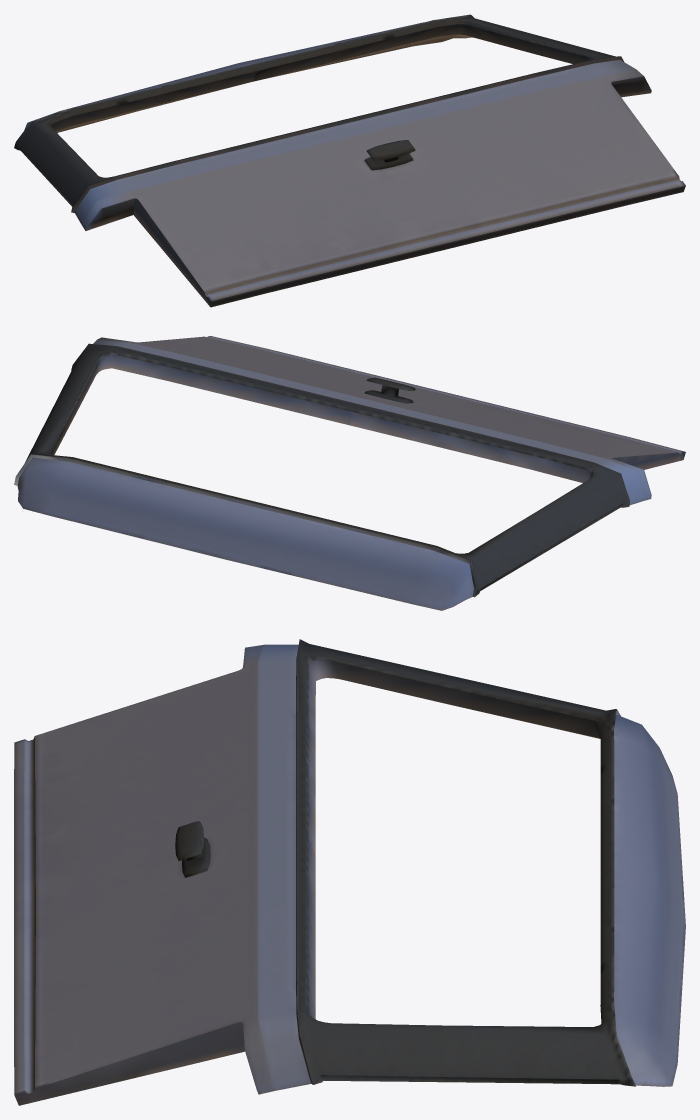
Rendered from FordExplorerTrunkLid_WorldItem.fbx.
3 renders of one model, top to bottom at view 1: azimuth 30°, elevation 25°; view 2: azimuth 150°, elevation 25°; view 3: azimuth 270°, elevation 25°, orthographic. The views are drawn at different scales.
Visible parts, largest first — view 1: Trunk_obj; view 2: Trunk_obj; view 3: Trunk_obj.
Boxes of the visible parts, x1,y1,x2,y2 form: Trunk_obj: (14, 14, 685, 307); Trunk_obj: (14, 336, 685, 610); Trunk_obj: (14, 639, 685, 1105).
Bounding box in the file's own units: 2.29 × 0.2557 × 1.55.
